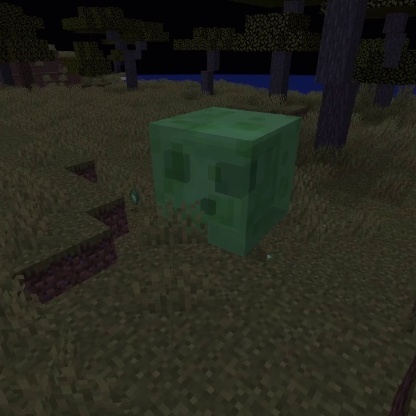slime: (143, 102, 305, 261)
